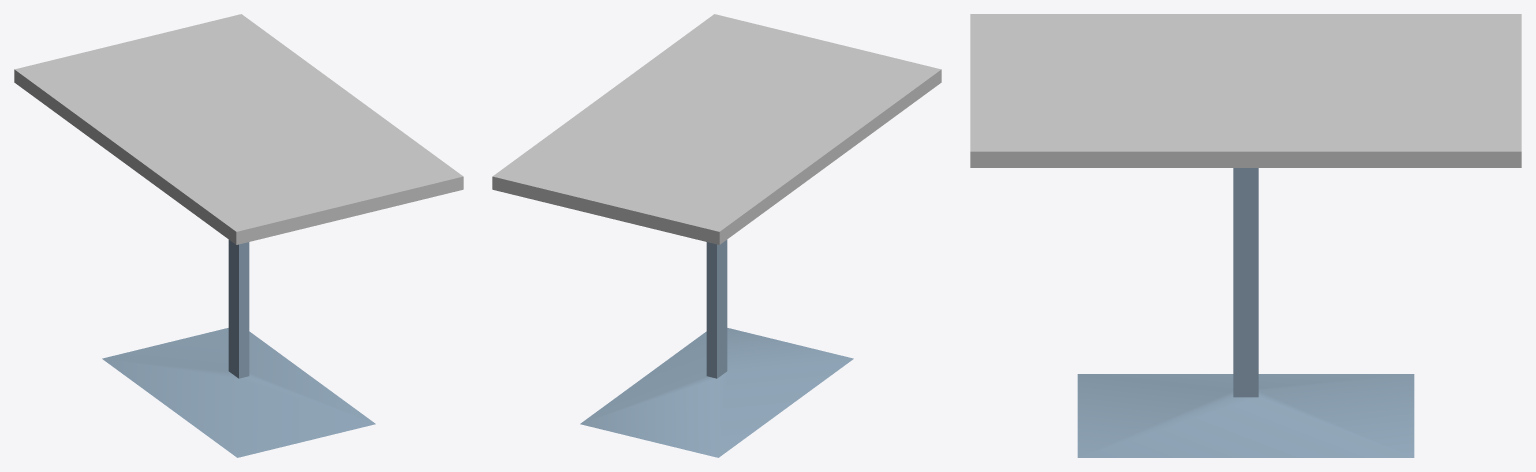
The model's file is short_table.dae.
3 views of the same model, side by side, from view 1: azimuth 30°, elevation 25°; view 2: azimuth 150°, elevation 25°; view 3: azimuth 270°, elevation 25° (orthographic). The views are drawn at different scales.
Visible parts, largest first — view 1: Top_Square_004, SketchUp, Top_Square_003; view 2: Top_Square_004, SketchUp, Top_Square_003; view 3: Top_Square_004, SketchUp, Top_Square_003.
Boxes of the visible parts, x1,y1,x2,y2 form: Top_Square_004: (15,14,463,231); SketchUp: (102,240,375,457); Top_Square_003: (14,69,463,244); Top_Square_004: (492,14,940,231); SketchUp: (580,240,853,457); Top_Square_003: (492,69,941,244); Top_Square_004: (970,14,1521,151); SketchUp: (1077,168,1414,457); Top_Square_003: (970,151,1521,167).
Bounding box in the file's own units: 0.54 × 0.9144 × 0.61.
